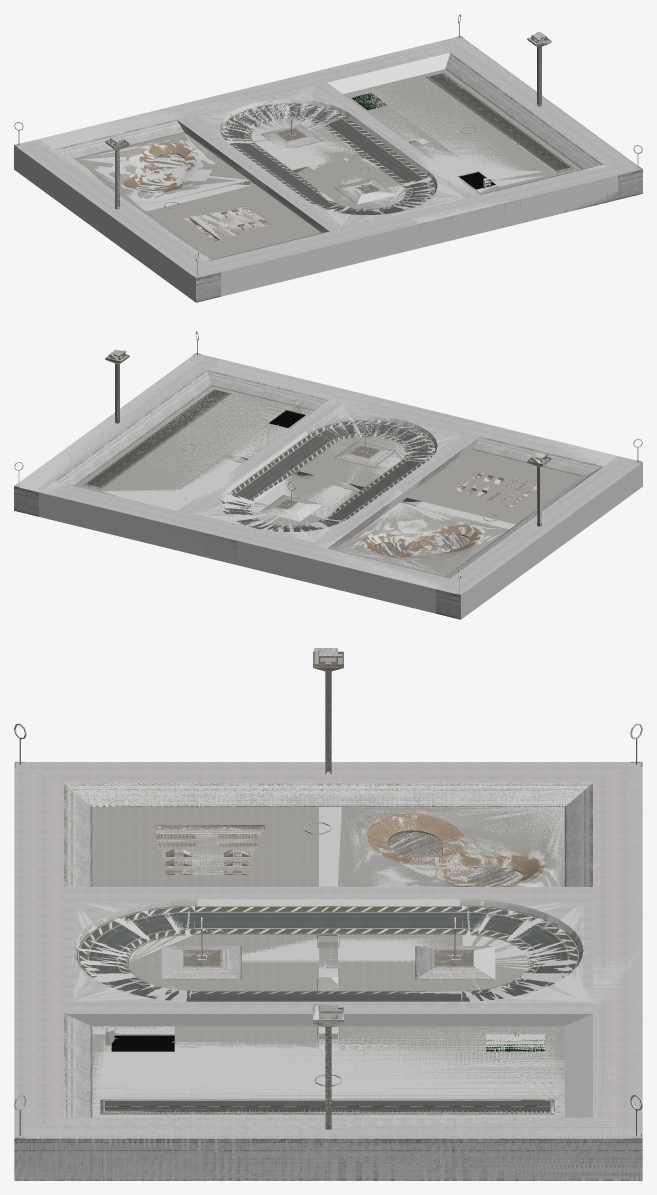
File: vehicles_world.glb
The picture shows the model from 3 angles, top to bottom: view 1: azimuth 30°, elevation 25°; view 2: azimuth 150°, elevation 25°; view 3: azimuth 270°, elevation 25°; orthographic projection. The views are drawn at different scales.
Visible parts, largest first — view 1: Plane, Cube.006, Cube.011, Cube.065, BezierCircle, Cube.056, Cube.054, Cube.009, Cube.082, Cube.068, Cube.072, Cube.007 (+16 smaller); view 2: Plane, BezierCircle, Cube.054, Cube.055, Cube.065, Cube.056, Cube, Cube.009, Cube.006, Cube.082, Cube.064, Cube.011 (+15 smaller); view 3: Plane, Cube, Cube.056, BezierCircle, Cube.066, Cube.009, Cube.077, Cube.064, Cube.082, Cube.068, Cube.007, Cube.581 (+16 smaller).
Boxes of the visible parts, left/top/right/bottom form: Plane: left=14, top=36, right=642, bottom=302; Cube.006: left=411, top=165, right=617, bottom=247; Cube.011: left=221, top=214, right=419, bottom=296; Cube.065: left=14, top=139, right=195, bottom=302; BezierCircle: left=75, top=132, right=248, bottom=205; Cube.056: left=366, top=71, right=543, bottom=186; Cube.054: left=39, top=93, right=250, bottom=149; Cube.009: left=425, top=73, right=574, bottom=172; Cube.082: left=251, top=120, right=358, bottom=170; Cube.068: left=327, top=53, right=449, bottom=93; Cube.072: left=189, top=207, right=265, bottom=239; Cube.007: left=260, top=124, right=322, bottom=148; Plane: left=14, top=354, right=642, bottom=619; BezierCircle: left=335, top=504, right=509, bottom=576; Cube.054: left=237, top=541, right=441, bottom=613; Cube.055: left=39, top=482, right=237, bottom=564; Cube.065: left=437, top=456, right=642, bottom=619; Cube.056: left=102, top=387, right=289, bottom=505; Cube: left=16, top=353, right=217, bottom=491; Cube.009: left=83, top=389, right=231, bottom=489; Cube.006: left=207, top=359, right=417, bottom=410; Cube.082: left=251, top=480, right=352, bottom=525; Cube.064: left=155, top=458, right=242, bottom=511; Cube.011: left=430, top=415, right=617, bottom=466; Plane: left=14, top=762, right=642, bottom=1180; Cube: left=14, top=1117, right=642, bottom=1180; Cube.056: left=92, top=1051, right=564, bottom=1117; BezierCircle: left=342, top=807, right=564, bottom=886; Cube.066: left=65, top=783, right=592, bottom=806; Cube.009: left=100, top=1099, right=554, bottom=1114; Cube.077: left=65, top=1001, right=592, bottom=1026; Cube.064: left=338, top=1026, right=563, bottom=1051; Cube.082: left=338, top=935, right=528, bottom=989; Cube.068: left=564, top=1014, right=592, bottom=1117; Cube.007: left=415, top=946, right=494, bottom=979; Cube.581: left=162, top=946, right=241, bottom=979.
Size of what is drawn, in the model's own units: 399 by 80.33 by 281.
14 materials, 13 textured.
